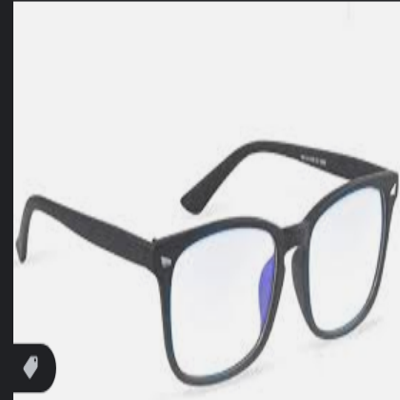glasses: (17, 137, 397, 391)
